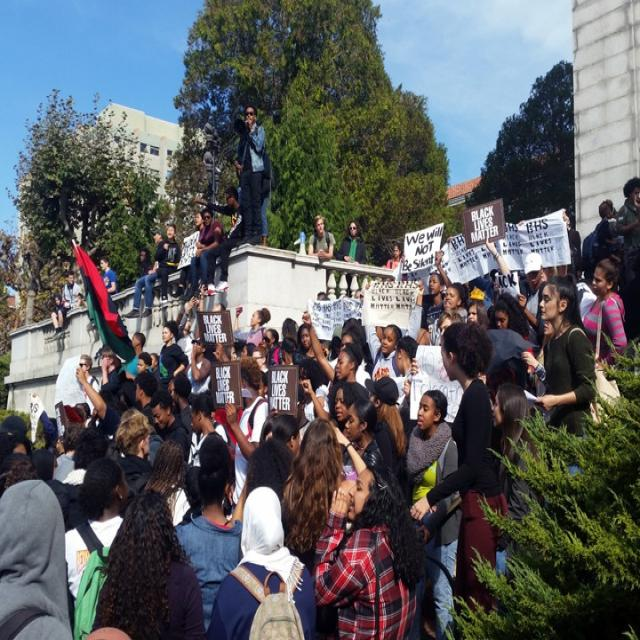body: (409, 320, 509, 621), (310, 464, 420, 638), (532, 272, 623, 478), (85, 487, 207, 639), (205, 485, 321, 639), (448, 233, 529, 453), (404, 388, 463, 640), (279, 422, 368, 569), (172, 457, 245, 636), (62, 460, 131, 640), (0, 479, 76, 639), (489, 379, 546, 592), (223, 358, 271, 523), (192, 188, 248, 298), (230, 99, 270, 249), (302, 310, 374, 390), (580, 255, 630, 367), (161, 372, 195, 533), (63, 426, 113, 534), (363, 375, 408, 487), (302, 309, 364, 389), (135, 441, 191, 528), (113, 406, 155, 520), (362, 281, 404, 383), (123, 226, 167, 319), (244, 434, 298, 505), (327, 379, 372, 464), (490, 290, 533, 378), (190, 206, 228, 300), (582, 198, 623, 284), (186, 391, 230, 469), (149, 386, 193, 464), (514, 250, 548, 350), (148, 392, 193, 466), (343, 397, 386, 468), (76, 369, 121, 435), (325, 321, 368, 389), (26, 391, 58, 482), (335, 218, 368, 298), (295, 356, 332, 423), (153, 222, 181, 309), (180, 210, 207, 300), (157, 320, 190, 390), (350, 286, 374, 382), (298, 358, 332, 423), (421, 270, 447, 346), (187, 334, 213, 406), (97, 345, 123, 416), (168, 375, 195, 442), (231, 304, 272, 348), (117, 331, 154, 378), (615, 176, 639, 248), (132, 370, 160, 428), (270, 411, 300, 459), (307, 213, 337, 261), (78, 353, 100, 416), (296, 322, 327, 364), (442, 280, 471, 324), (565, 211, 583, 281), (433, 307, 464, 347), (393, 334, 419, 375), (316, 291, 330, 358), (262, 327, 284, 369), (49, 292, 67, 338), (0, 434, 33, 458), (99, 255, 118, 295), (0, 412, 29, 438), (62, 270, 84, 304), (466, 297, 489, 326), (277, 337, 298, 368), (465, 275, 489, 301), (252, 344, 270, 377), (148, 352, 166, 383), (74, 401, 93, 430), (386, 240, 404, 270), (135, 350, 154, 378), (138, 246, 154, 278), (281, 316, 298, 342), (281, 317, 298, 343), (238, 342, 257, 362), (220, 342, 238, 362), (258, 368, 269, 399)
